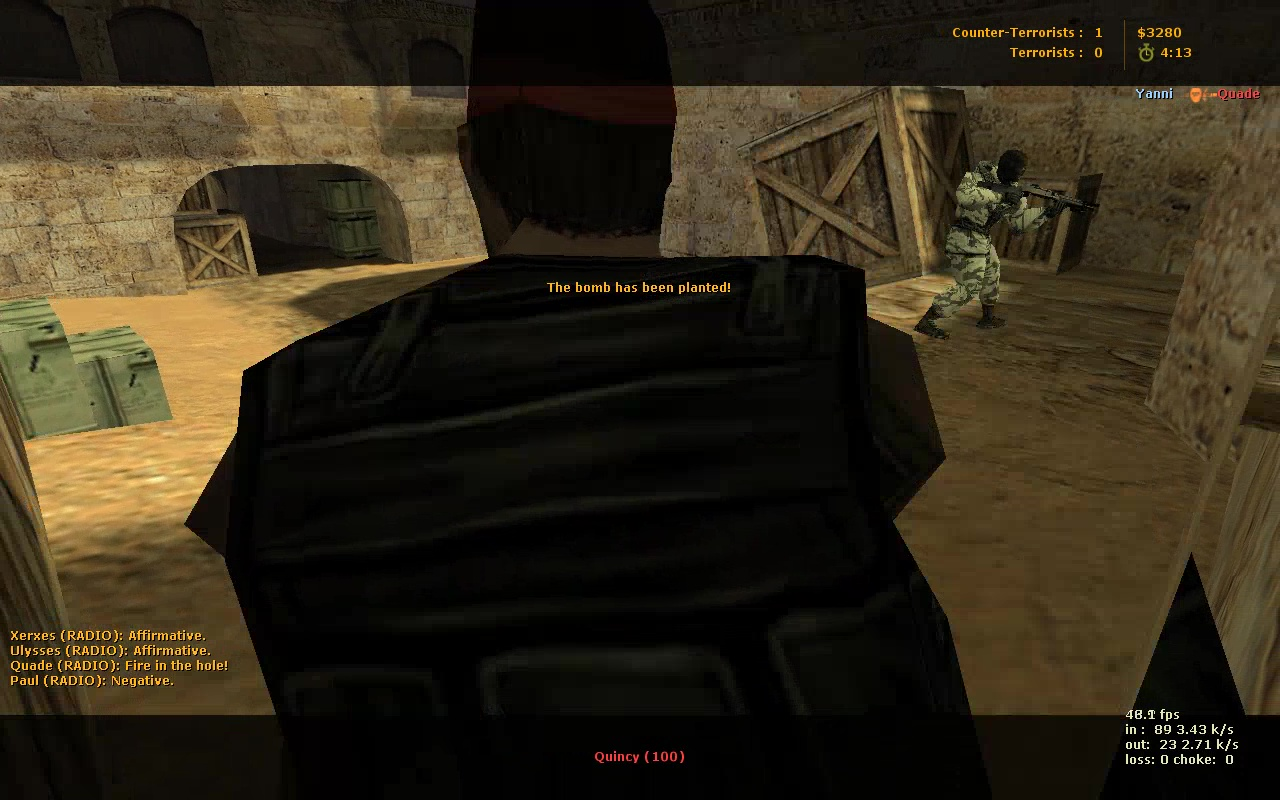terr2: (915, 145, 1045, 334)
